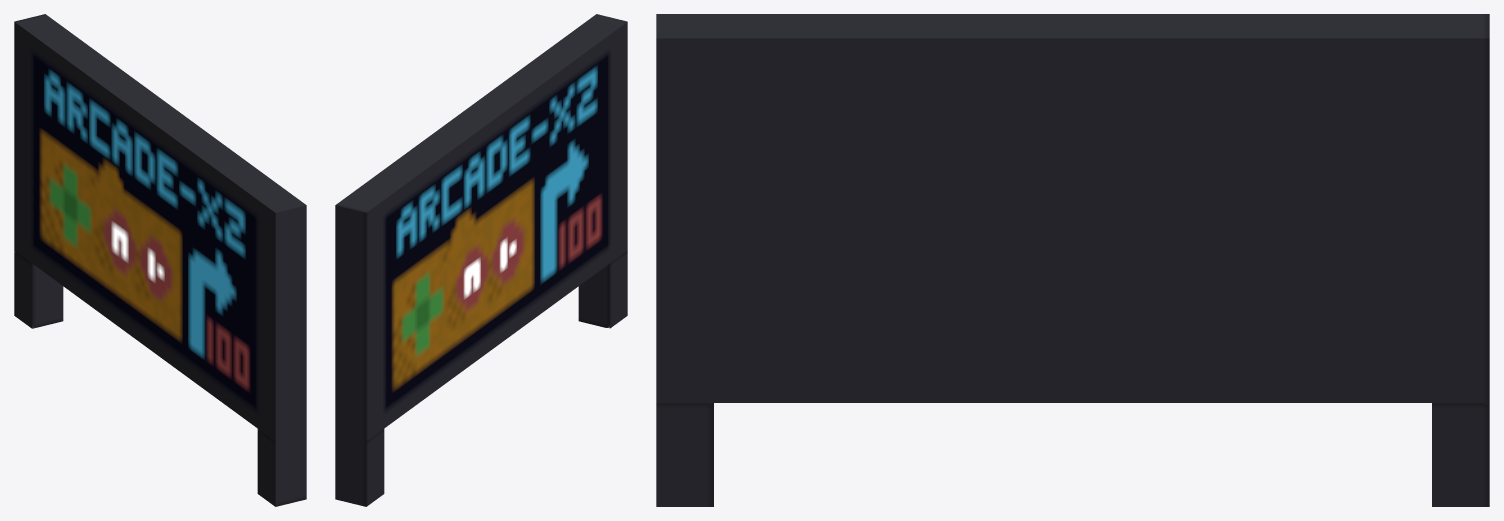
The model's file is neon_bb_arcade_100.dae.
3 views of the same model, side by side, from view 1: azimuth 30°, elevation 25°; view 2: azimuth 150°, elevation 25°; view 3: azimuth 270°, elevation 25° (orthographic). The views are drawn at different scales.
Visible parts, largest first — view 1: Content; view 2: Content; view 3: Content.
Boxes of the visible parts, bbox=[...] form: Content: bbox=[14, 14, 306, 506]; Content: bbox=[335, 14, 627, 506]; Content: bbox=[656, 14, 1489, 506].
Size of the model in its own units: 4 by 36 by 58.
Materials: 1 (1 with a texture image).
